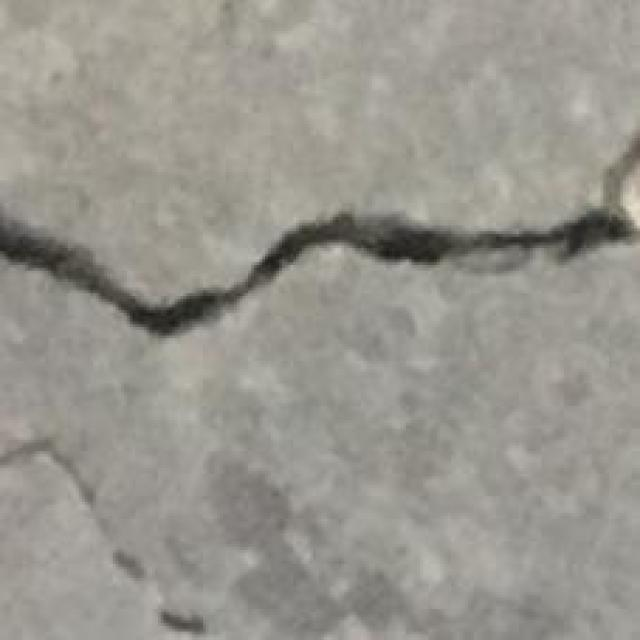Crack: (11, 133, 640, 355), (8, 423, 228, 640)
